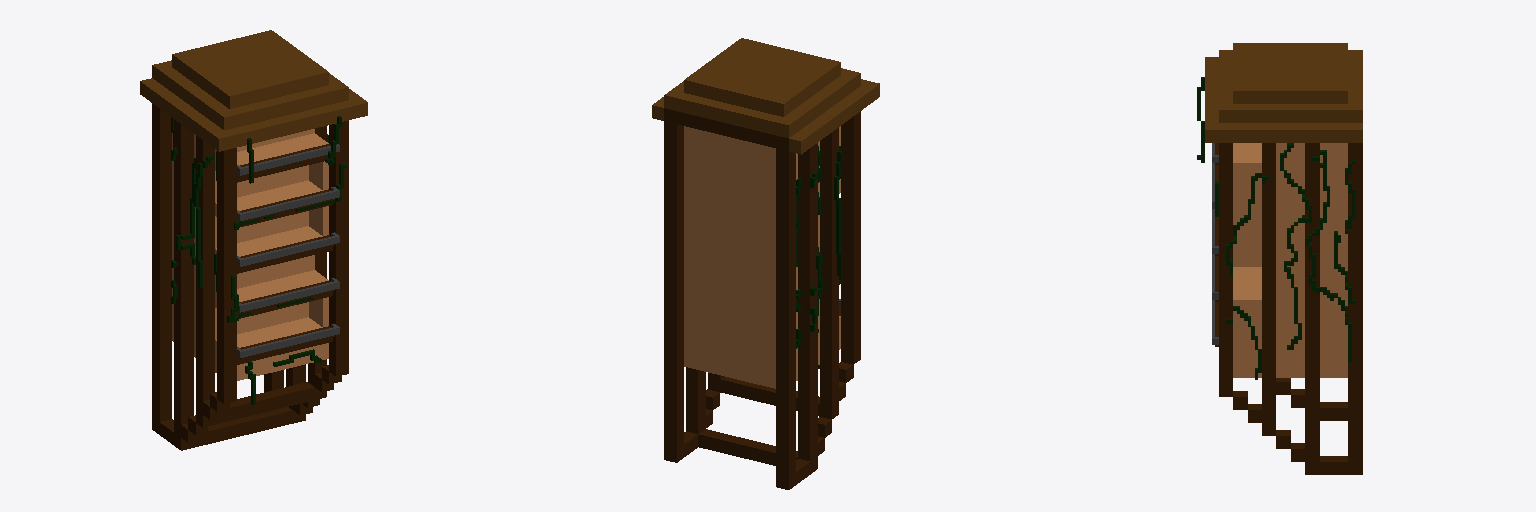
3 renders of one model, left to right at view 1: azimuth 30°, elevation 25°; view 2: azimuth 150°, elevation 25°; view 3: azimuth 270°, elevation 25°, orthographic.
Parts seen in each view (by area): view 1: object 1; view 2: object 1; view 3: object 1.
Boxes of the visible parts, box(x1,y1,x2,y2) form: object 1: box(140, 30, 367, 450); object 1: box(652, 38, 879, 489); object 1: box(1197, 43, 1362, 474).
Size of the model in its own units: 4.8 by 11.6 by 4.6.
1 materials, 1 textured.